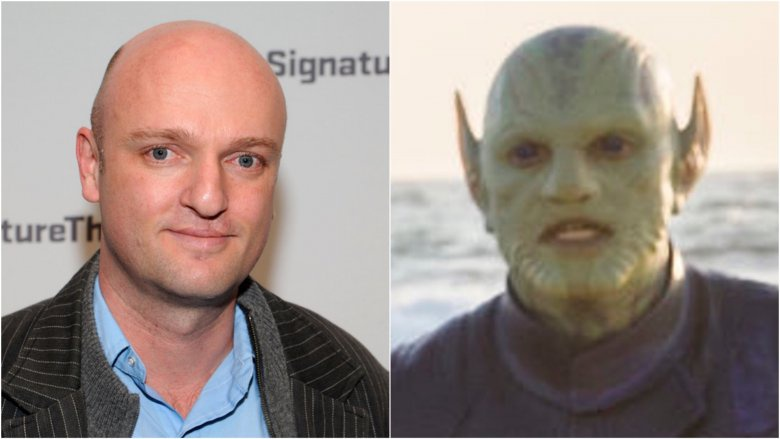bad: (118, 98, 304, 284), (469, 98, 655, 284)
